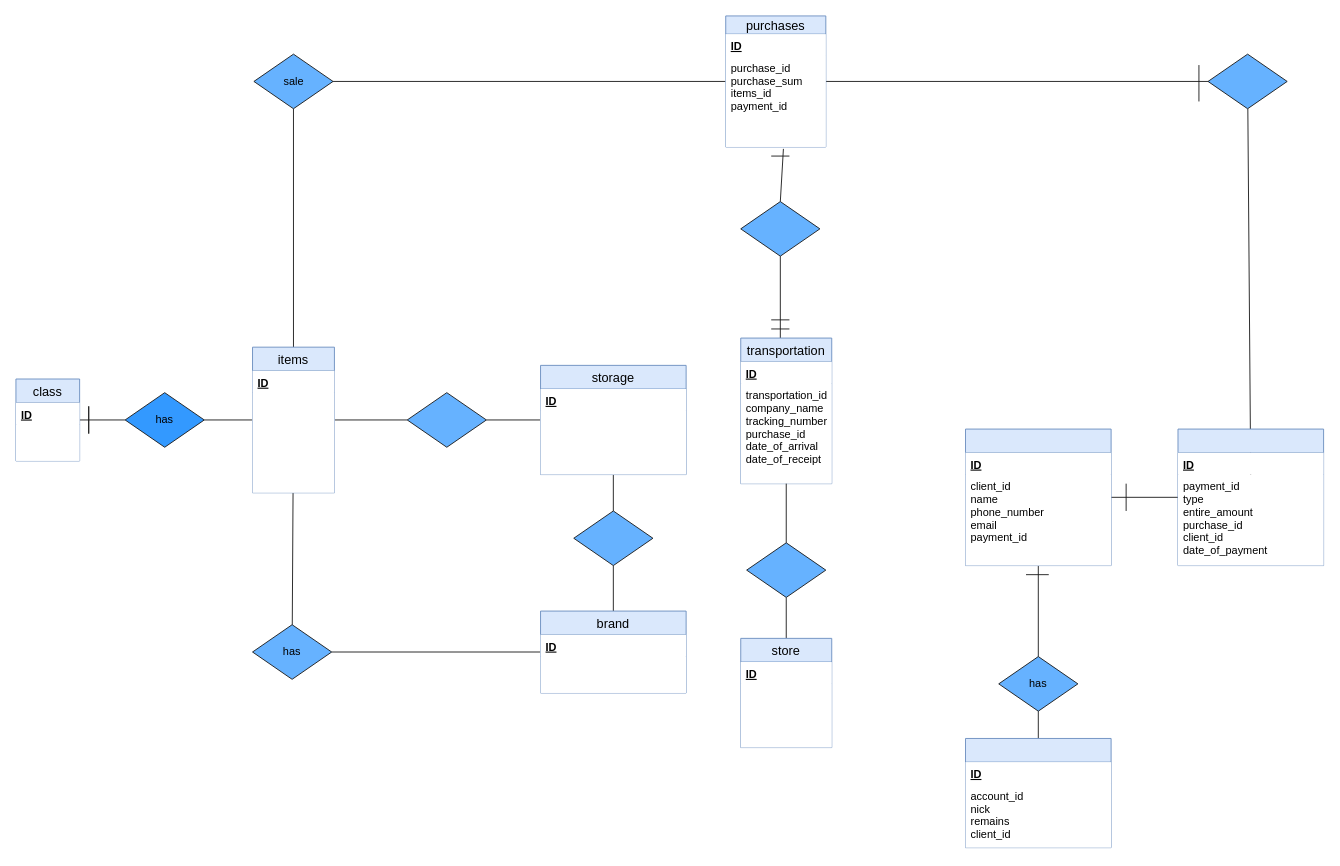
This 1340x866 diagram has some shape labels left out. Here are the shapes that lost their labels. From the top down, the box of each, then its label:
(1207, 53, 1287, 109): clone for
(740, 201, 820, 256): send
(406, 392, 486, 447): amount
(15, 424, 79, 460): class_id name
(252, 392, 334, 492): item_id name price supplier brand class_id storage_id
(540, 410, 686, 474): storage_id storage_reserve number_of_transportations number_of_received
(965, 428, 1111, 566): clients
(1177, 428, 1324, 566): payments
(573, 510, 653, 566): request
(746, 542, 826, 597): delivery
(540, 656, 686, 693): brand id brand_name
(740, 683, 831, 747): store_id name town transportation_id
(965, 738, 1111, 848): accounts
